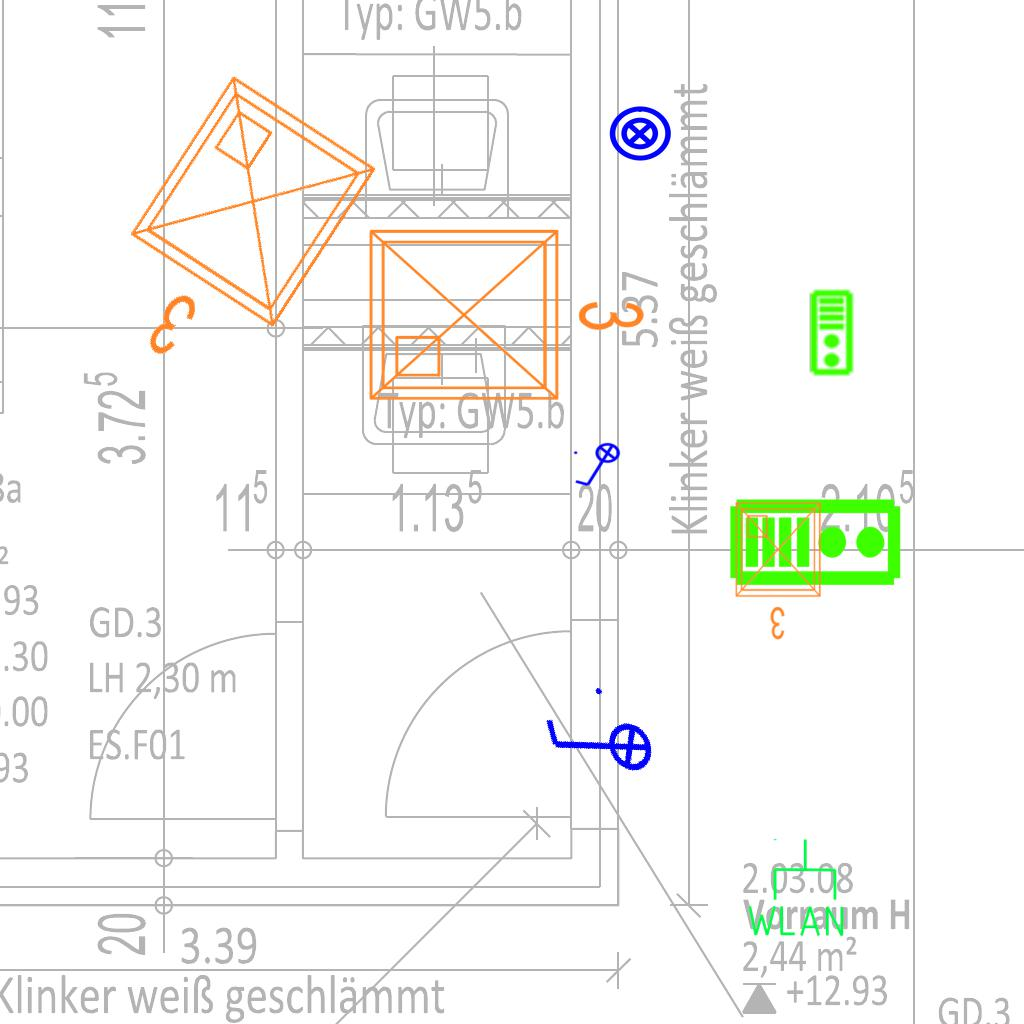Ausschalter_beleuchtet: (529, 672, 669, 818), (571, 442, 627, 490)
Einbaudownlights_LED_Konferenzraeume: (65, 55, 403, 421), (355, 207, 655, 415), (728, 495, 832, 645)
Gegensprechanlage_mit_Video: (728, 493, 904, 588), (809, 289, 856, 377)
Taster_beleuchtet: (607, 101, 673, 167)
WLAN: (743, 836, 848, 940)
